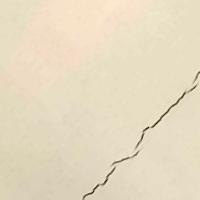crack: (60, 62, 199, 199)
